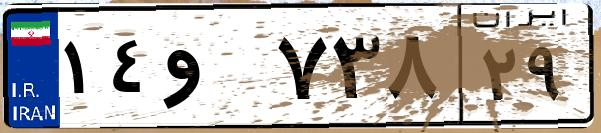1: (57, 26, 110, 100)
2: (475, 38, 525, 113)
3: (330, 28, 385, 110)
4: (110, 28, 158, 98)
7: (270, 28, 330, 110)
8: (385, 28, 445, 110)
9: (525, 38, 570, 115)
و: (158, 20, 270, 120)
